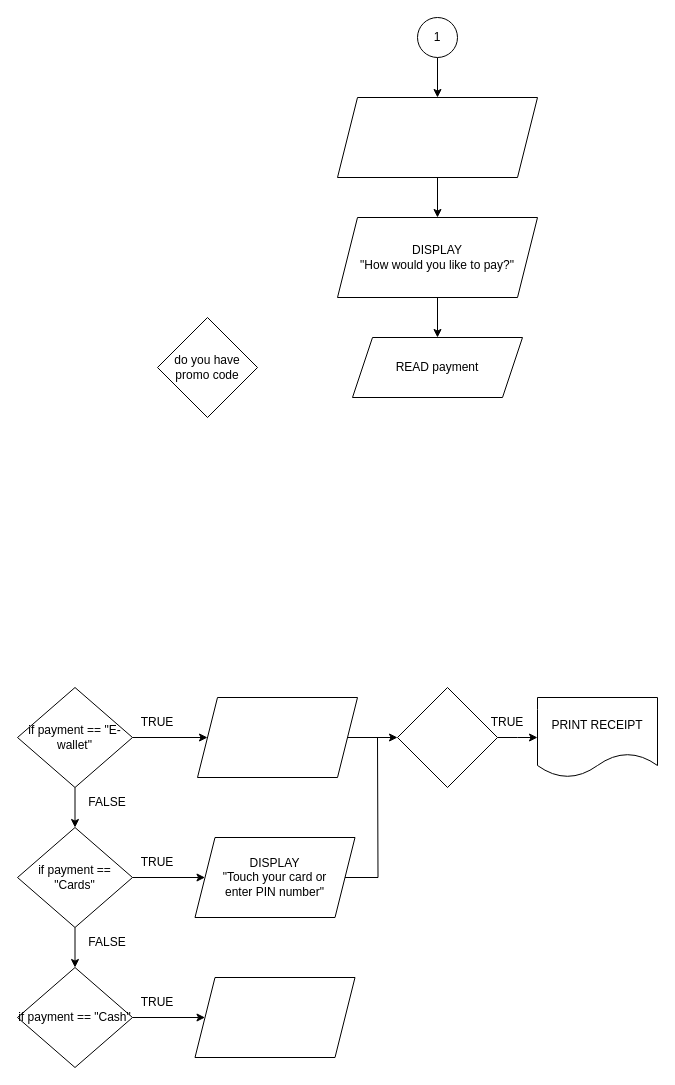
This 675x1085 diagram has some shape labels left out. The shapes that lost their labels are listed below. From the top down, each one's centre as x and y in pixels, then its label:
point (437, 137): DISPLAY "Your total amount is <<totalPrice;"
point (277, 737): DISPLAY vendor DuitNow QR
point (447, 737): if payment is successful
point (274, 1017): DISPLAY "Pay at the register"
